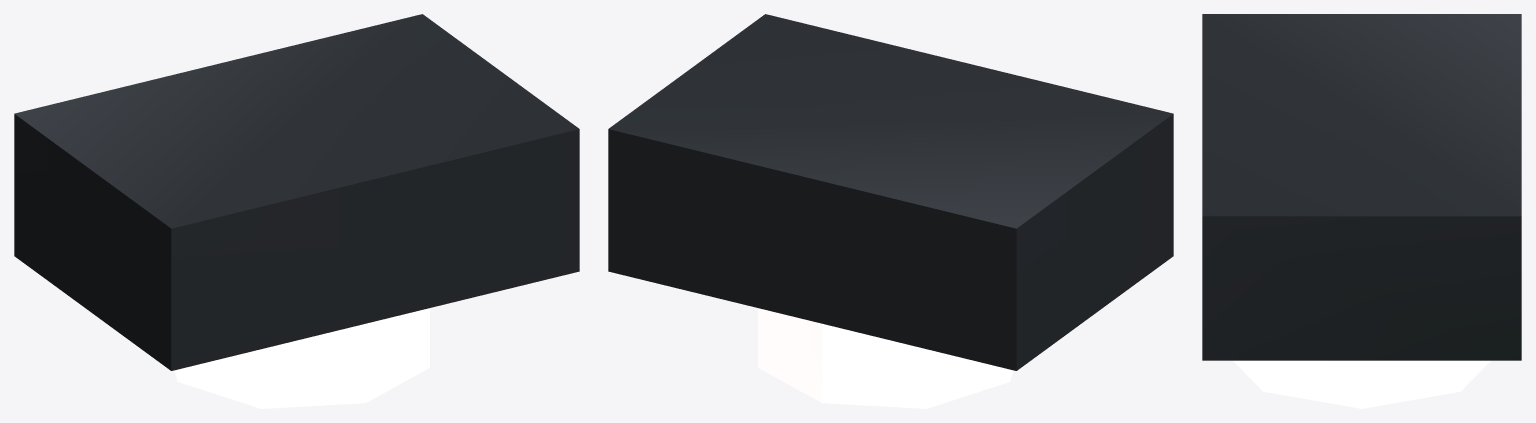
The model's file is lamp_red.glb.
3 renders of one model, left to right at view 1: azimuth 30°, elevation 25°; view 2: azimuth 150°, elevation 25°; view 3: azimuth 270°, elevation 25°, orthographic.
Visible parts, largest first — view 1: lamp_red; view 2: lamp_red; view 3: lamp_red.
Part boxes in pixels (x1=…): lamp_red: x1=14, y1=14, x2=579, y2=408; lamp_red: x1=608, y1=14, x2=1173, y2=408; lamp_red: x1=1202, y1=14, x2=1521, y2=408.
Size of the model in its own units: 12 by 6.5 by 8.
